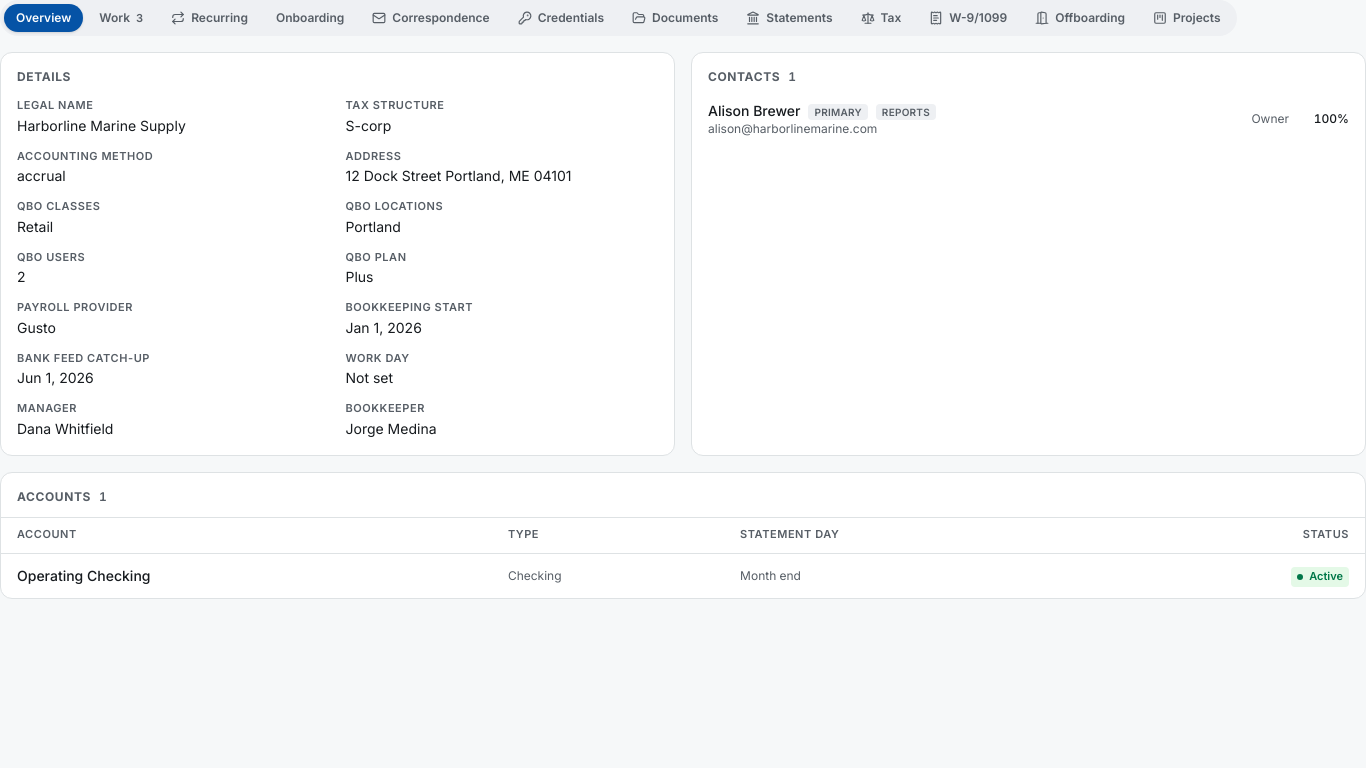
Test: ClientDetailTabs content › renders open work grouped by attributed month, newest first
Click the tab "Work 3" at (121, 18), box [87,4,155,32]
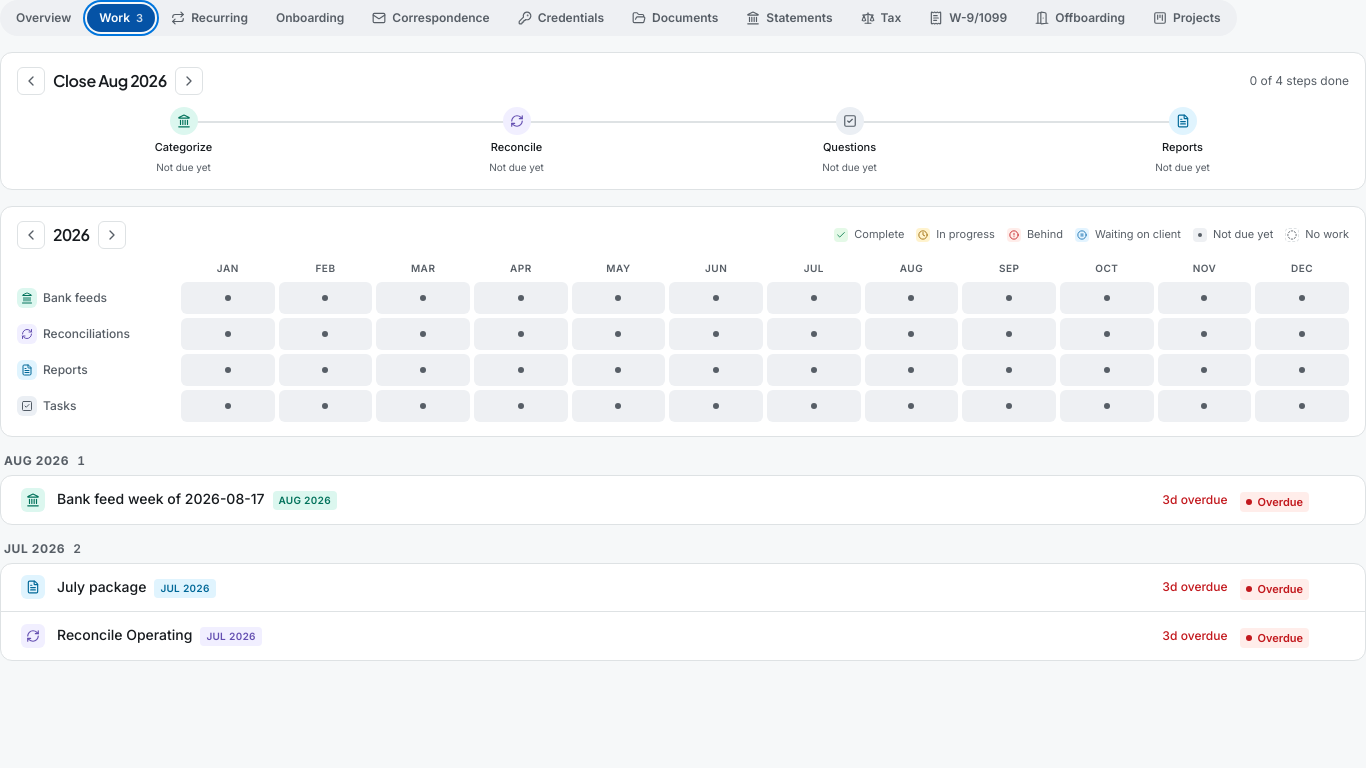
Expected: the heading "Aug 2026 1" is shown, [4,452,86,468]
Expected: the heading "Jul 2026 2" is shown, [4,540,82,556]
Expected: the number of elements with test id "client-work-row" is 3, [21,488,1309,512]; [1,564,1365,612]; [21,624,1309,648]
